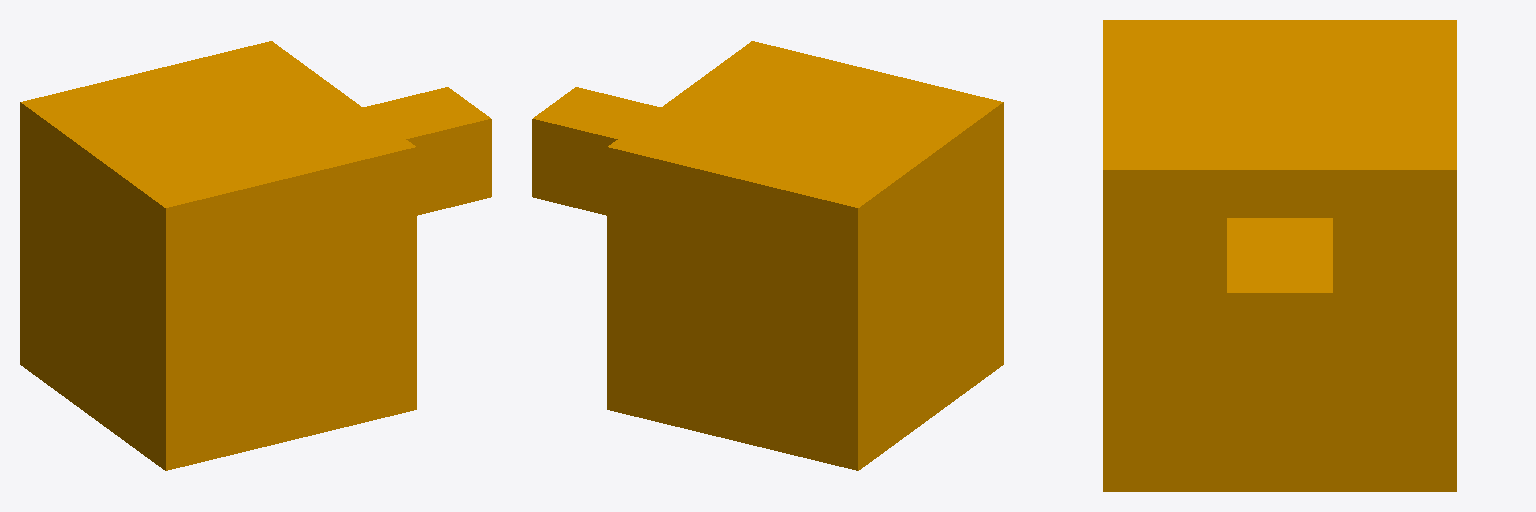
robot.urdf — contact_gen:
<?xml version="1.0"?>
<robot name="contact_gen">
    <link name="contact_gen">
        <visual>
            <geometry>
                <mesh filename="../mesh/vitascope_pegs/contact_gen.obj"/>
            </geometry>
        </visual>
        <collision>
            <geometry>
                <mesh filename="../mesh/vitascope_pegs/contact_gen.obj"/>
            </geometry>
            <sdf resolution="256"/>
        </collision>
    </link>
</robot>

--- Facts derived from the render (not from the file) ---
Views: 3 orthographic renders of the robot side by side, from view 1: azimuth 30°, elevation 25°; view 2: azimuth 150°, elevation 25°; view 3: azimuth 270°, elevation 25°.
Robot: contact_gen — 1 links, 0 joints (none); root link contact_gen; default pose: all joints at 0.
Visible links, largest first — view 1: contact_gen; view 2: contact_gen; view 3: contact_gen.
Boxes of the visible links, x1,y1,x2,y2 form: contact_gen: (20,41,491,470); contact_gen: (532,41,1003,470); contact_gen: (1103,20,1456,491).
Bounding box of the posed robot: 0.075 × 0.05 × 0.05 m (x, y, z).
Meshes: 1 distinct files referenced, 1 mesh visuals loaded (1 OBJ).
